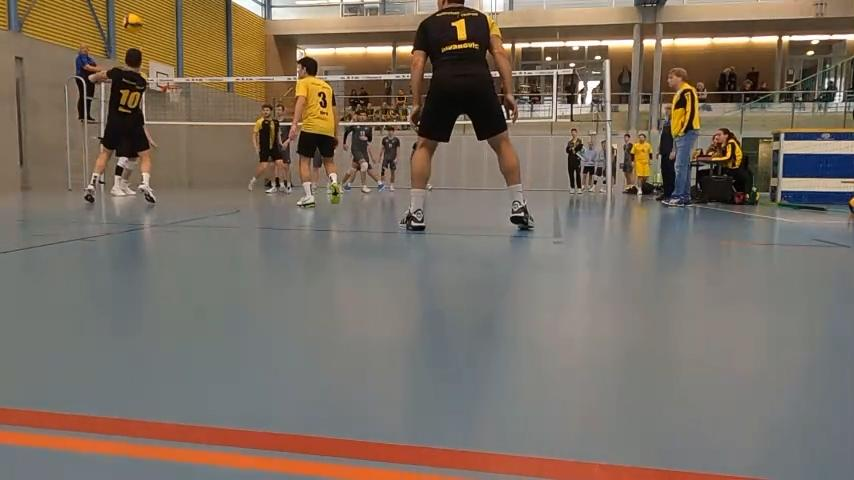Player: (400, 0, 532, 230), (289, 57, 340, 206), (248, 104, 281, 190), (342, 124, 381, 192), (110, 143, 138, 196), (275, 104, 291, 193), (379, 127, 400, 191), (310, 151, 322, 193), (410, 140, 417, 163)
Receive: (78, 45, 157, 209)
ball: (122, 15, 143, 33)
